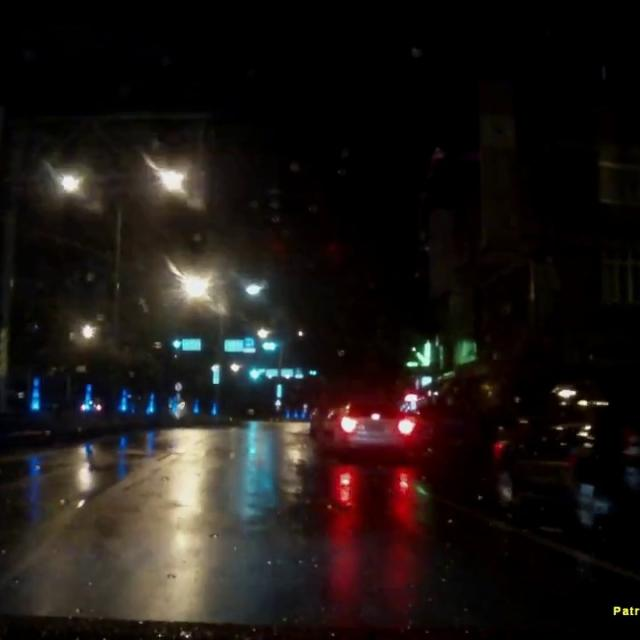Car: (479, 354, 639, 525), (416, 362, 514, 498), (314, 397, 415, 459)
